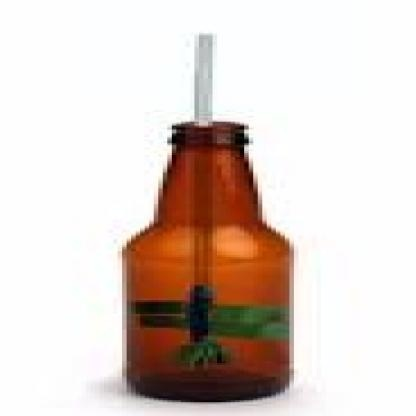trash: (123, 34, 292, 400)
